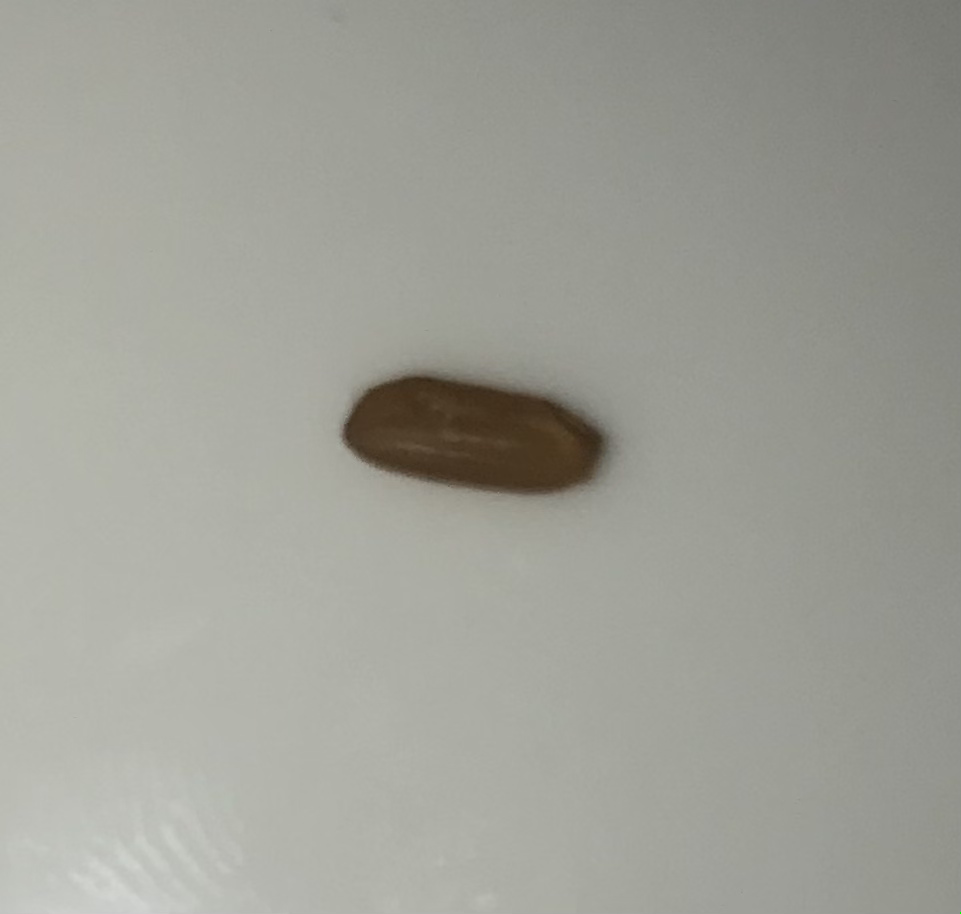Gao Lut Dien Bien: (344, 371, 607, 506)
